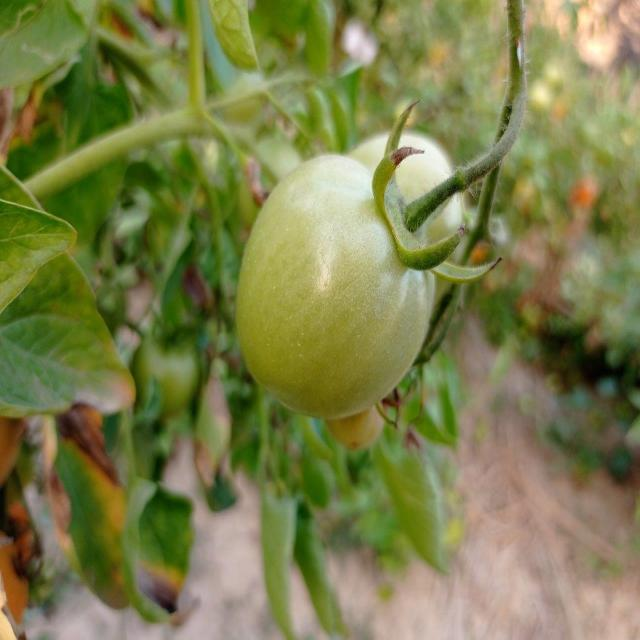Unripe: (235, 152, 431, 418)
